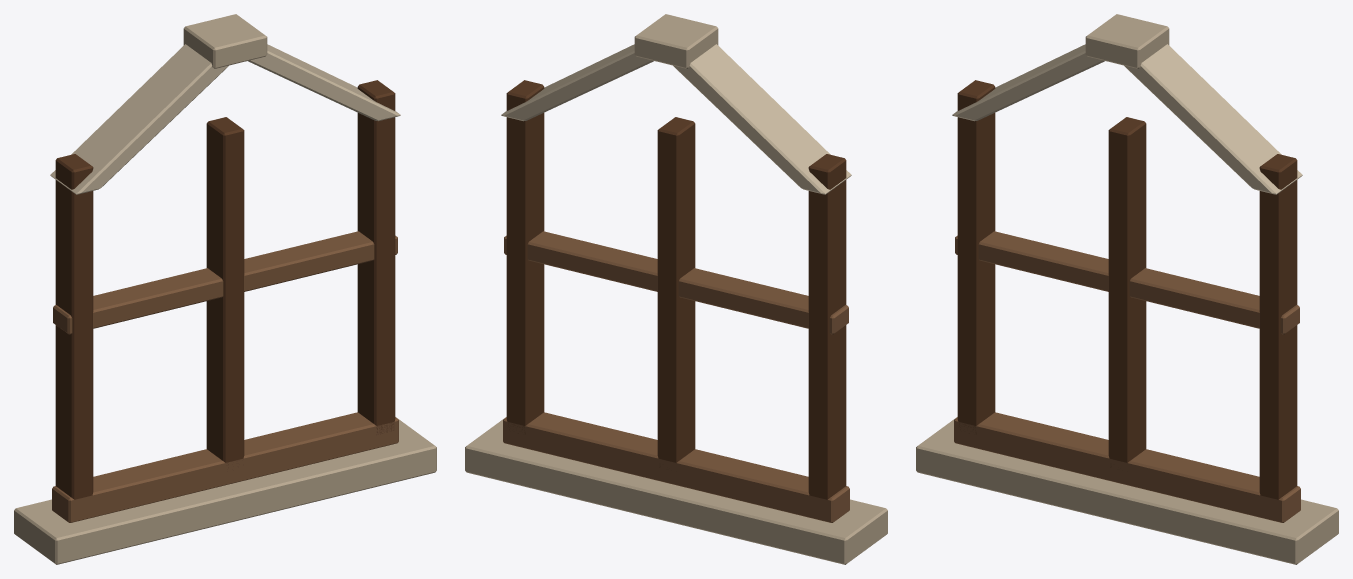
Rendered from mullioned_window.glb.
3 renders of one model, left to right at view 1: azimuth 30°, elevation 25°; view 2: azimuth 150°, elevation 25°; view 3: azimuth 330°, elevation 25°, orthographic.
Parts seen in each view (by area): view 1: mullioned_window; view 2: mullioned_window; view 3: mullioned_window.
Boxes of the visible parts, bbox=[...] form: mullioned_window: bbox=[14, 14, 436, 564]; mullioned_window: bbox=[465, 14, 887, 564]; mullioned_window: bbox=[916, 14, 1338, 564].
Bounding box in the file's own units: 1.34 × 1.59 × 0.26.
